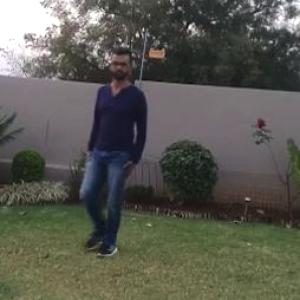follow: (92, 46, 163, 253)
